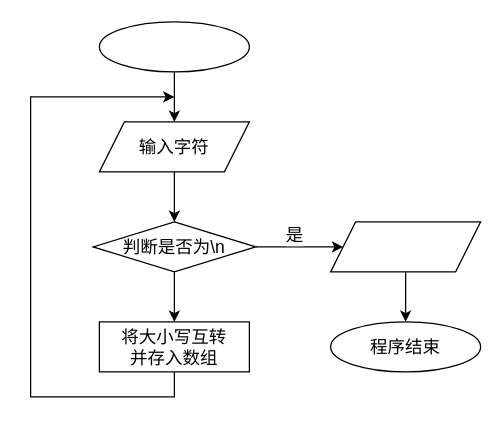
This 503x429 diagram has some shape labels left out. The centre of each missing label's shape, as x and y in pixels:
程序开始: [173,46]
输出结果: [405,246]
